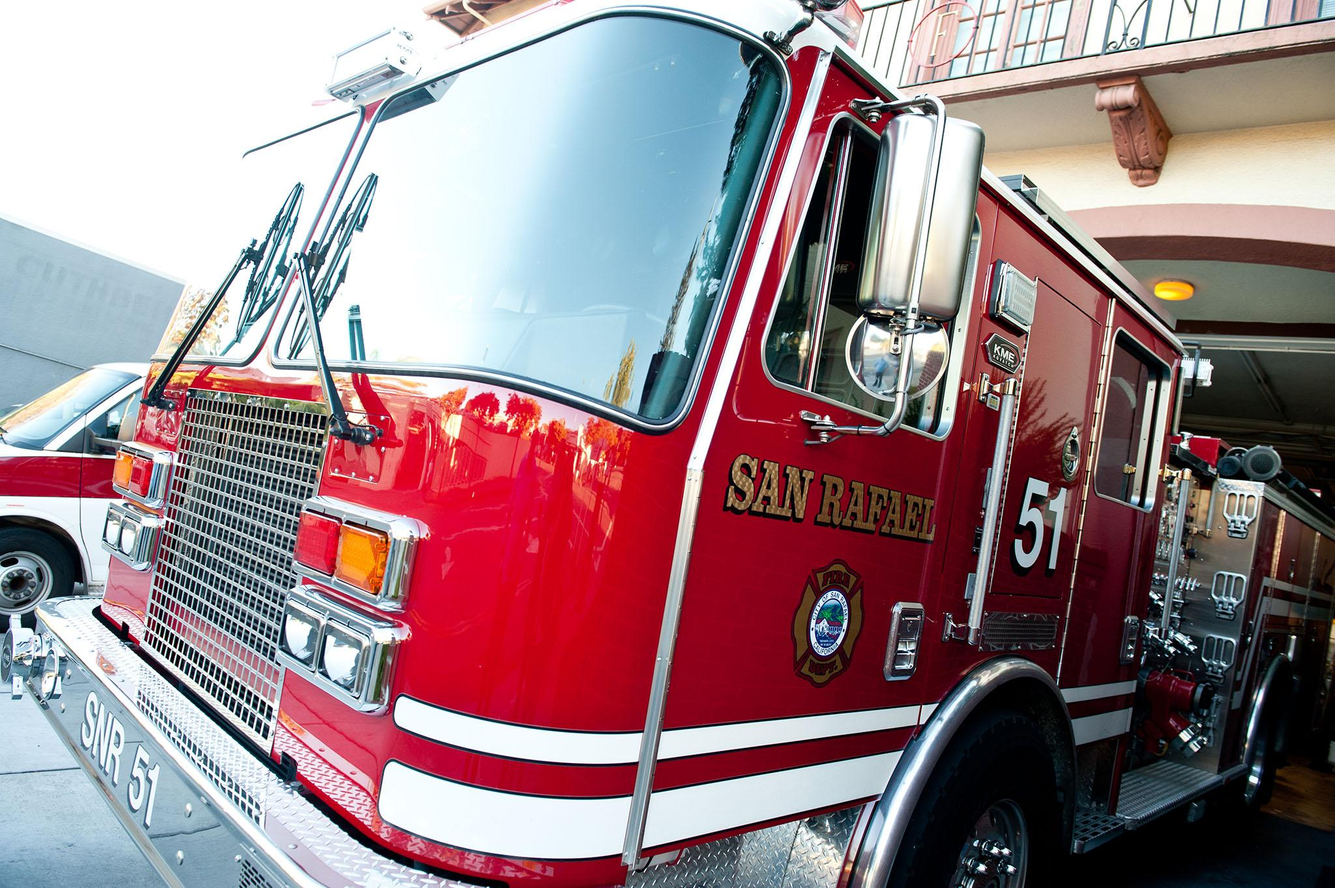Fire-engine: (4, 1, 1332, 886)
